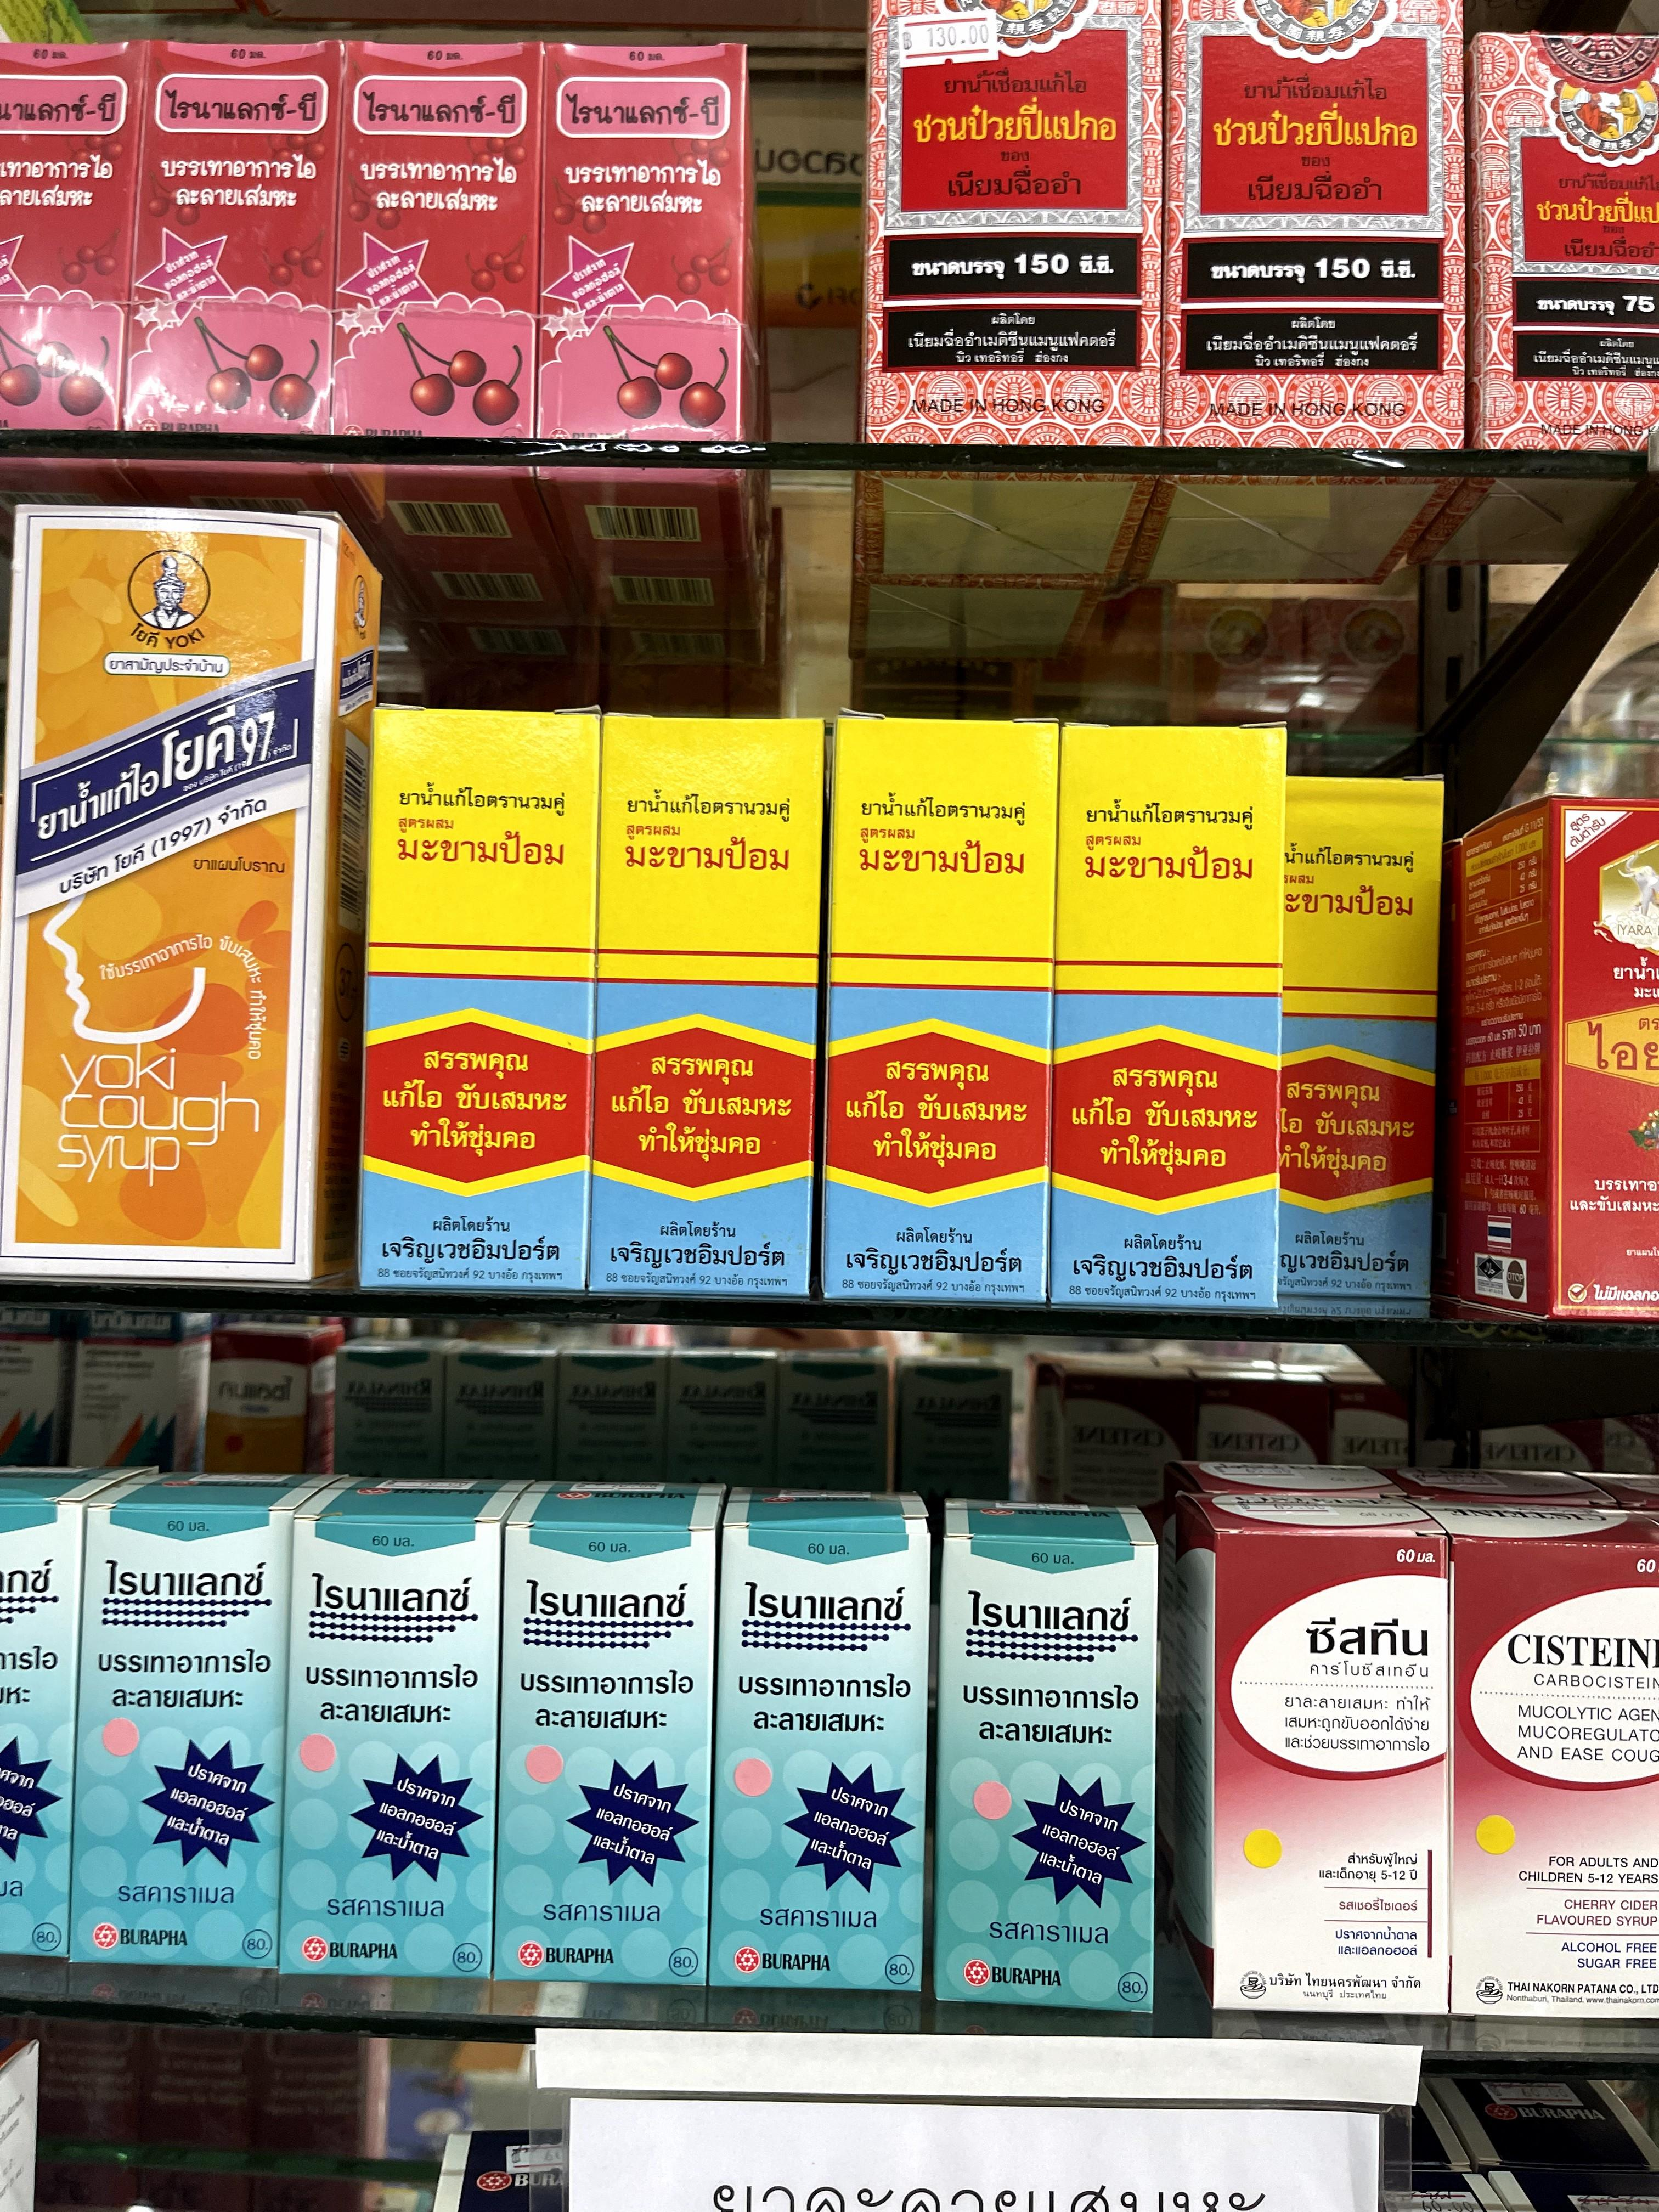Cisteine: (1194, 1487, 1448, 2010), (1439, 1500, 1659, 2029)
Iyara: (1459, 801, 1659, 1308)
Ma-Kham-Pom: (828, 716, 1056, 1306), (1060, 721, 1281, 1312), (603, 705, 817, 1303), (369, 702, 584, 1294), (1281, 772, 1446, 1301)
Pei-Pa-Koa: (1471, 33, 1659, 453)
Rhinalax: (77, 1465, 310, 1966), (946, 1507, 1162, 2022), (296, 1474, 505, 1991), (502, 1480, 716, 1980), (718, 1489, 927, 1991), (0, 1468, 96, 1956)
Rhinalax-B: (538, 44, 746, 463), (143, 33, 349, 448), (357, 38, 545, 472), (0, 30, 139, 444)
